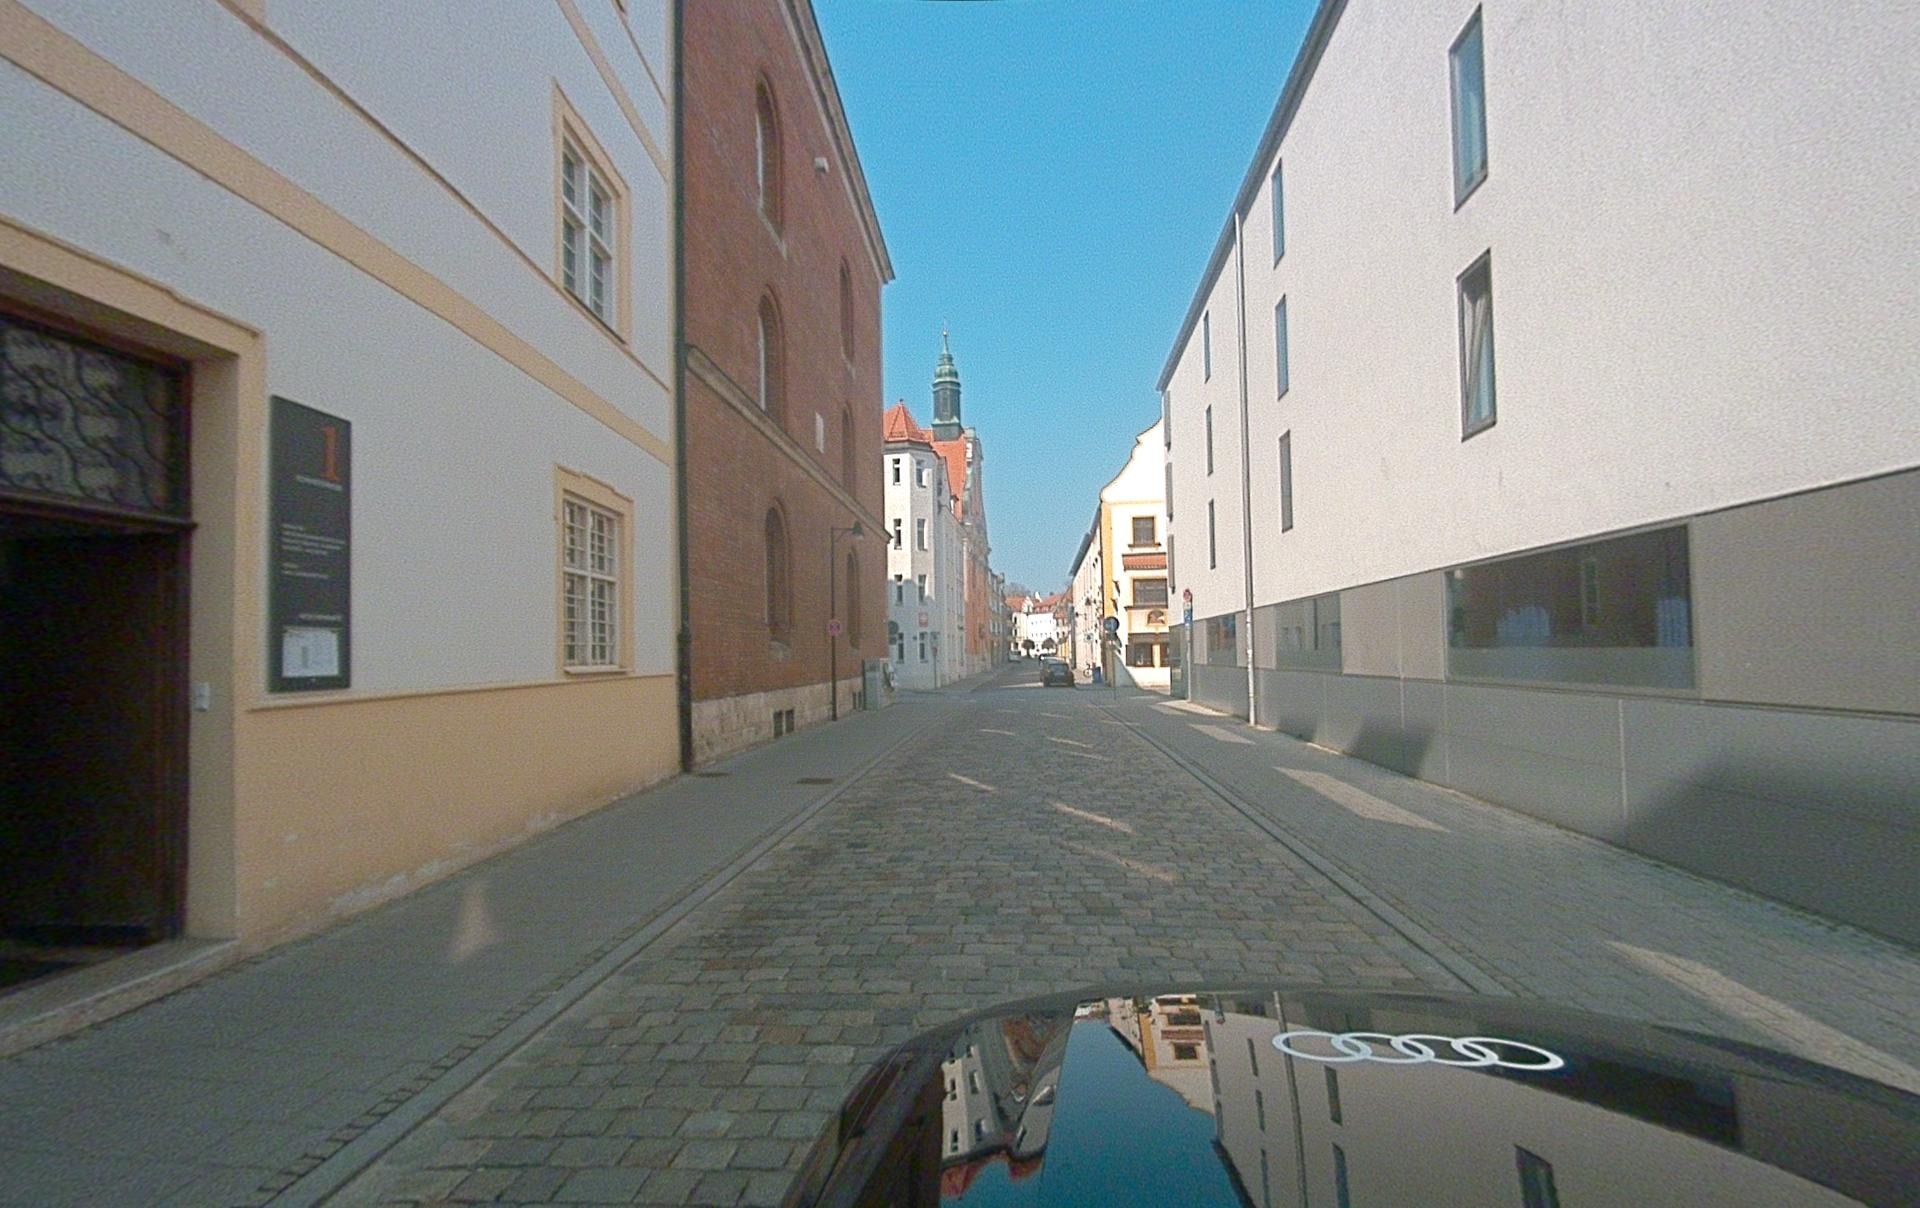car: (779, 984, 1917, 1207), (1041, 657, 1074, 688)
